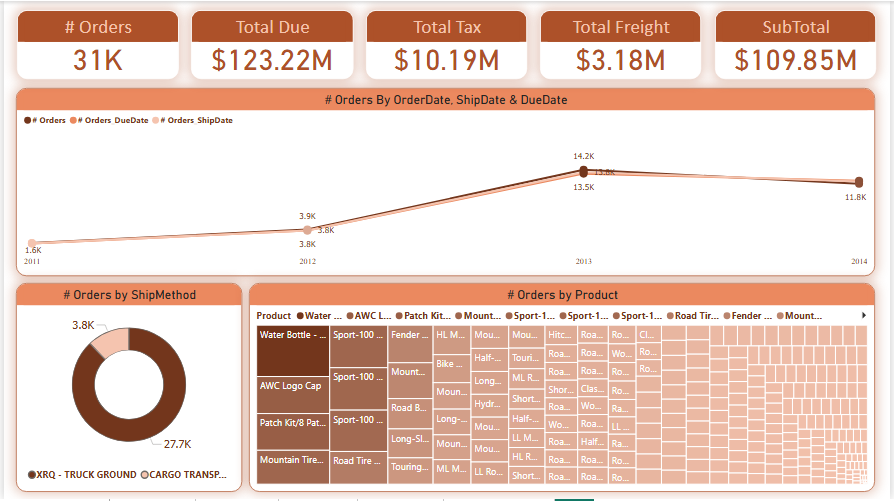

Layout of this report page (visuals, bound fields, positions):
{"tool":"powerbi","page":{"name":"Report 1","canvas":[1280,720],"ordinal":0},"visuals":[{"type":"card","title":"# Orders","fields":{"Values":["Dax Measures.# Orders"]},"box":[18.8,12.6,233.6,100.4],"z":0,"group":"g2"},{"type":"card","title":"Total Due","fields":{"Values":["Dax Measures.Total Due"]},"box":[270.7,12.6,234.9,100.4],"z":1000,"group":"g2"},{"type":"card","title":"Total Freight","fields":{"Values":["Dax Measures.Total Freight"]},"box":[775.6,12.6,233.4,100.4],"z":2000,"group":"g2"},{"type":"card","title":"Total Tax","fields":{"Values":["Dax Measures.Total Tax"]},"box":[523.9,12.6,233.4,100.4],"z":3000,"group":"g2"},{"type":"card","title":"SubTotal","fields":{"Values":["Dax Measures.SubTotal"]},"box":[1027.3,12.6,233.4,100.4],"z":4000,"group":"g2"},{"type":"lineChart","title":"# Orders By OrderDate, ShipDate & DueDate ","fields":{"Category":["Dim_Date.Date.Variation.Date Hierarchy.Year"],"Y":["Dax Measures.# Orders","Dax Measures.# Orders_DueDate","Dax Measures.# Orders_ShipDate)"]},"box":[17.3,125.8,1241.9,271.8],"z":5000},{"type":"donutChart","fields":{"Y":["Dax Measures.# Orders"],"Category":["ShipMethod Dim.ShipMethod"]},"box":[17.3,407.7,326.7,302.2],"z":7000},{"type":"treemap","fields":{"Values":["Dax Measures.# Orders"],"Group":["Product Dim.Category Hierarchy.Category","Product Dim.Category Hierarchy.SubCategory","Product Dim.Category Hierarchy.Product"]},"box":[354.2,407.7,905.1,302.2],"z":8000},{"type":"group","id":"g1","title":"Group 1","box":[18.8,12.6,1241.9,100.4],"z":11001},{"type":"group","id":"g2","title":"Group 2","box":[18.8,12.6,1241.9,100.4],"z":11002,"group":"g1"}]}

Visuals, with their boxes in screenshot pixels (x1, y1, x2, y2), scaled from the page's 1280x720 canvas onto the 894x501 screenshot:
"# Orders" card: Rect(13, 9, 176, 79)
"Total Due" card: Rect(189, 9, 353, 79)
"Total Freight" card: Rect(542, 9, 705, 79)
"Total Tax" card: Rect(366, 9, 529, 79)
"SubTotal" card: Rect(718, 9, 881, 79)
"# Orders By OrderDate, ShipDate & DueDate " lineChart: Rect(12, 88, 879, 277)
donutChart - Dax Measures.# Orders x ShipMethod Dim.ShipMethod: Rect(12, 284, 240, 494)
treemap - Dax Measures.# Orders x Product Dim.Category Hierarchy.Category: Rect(247, 284, 880, 494)
"Group 1" group: Rect(13, 9, 881, 79)
"Group 2" group: Rect(13, 9, 881, 79)
